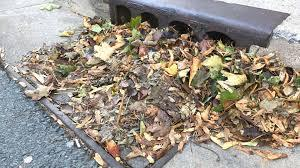Blocked drain: (1, 2, 300, 168)
